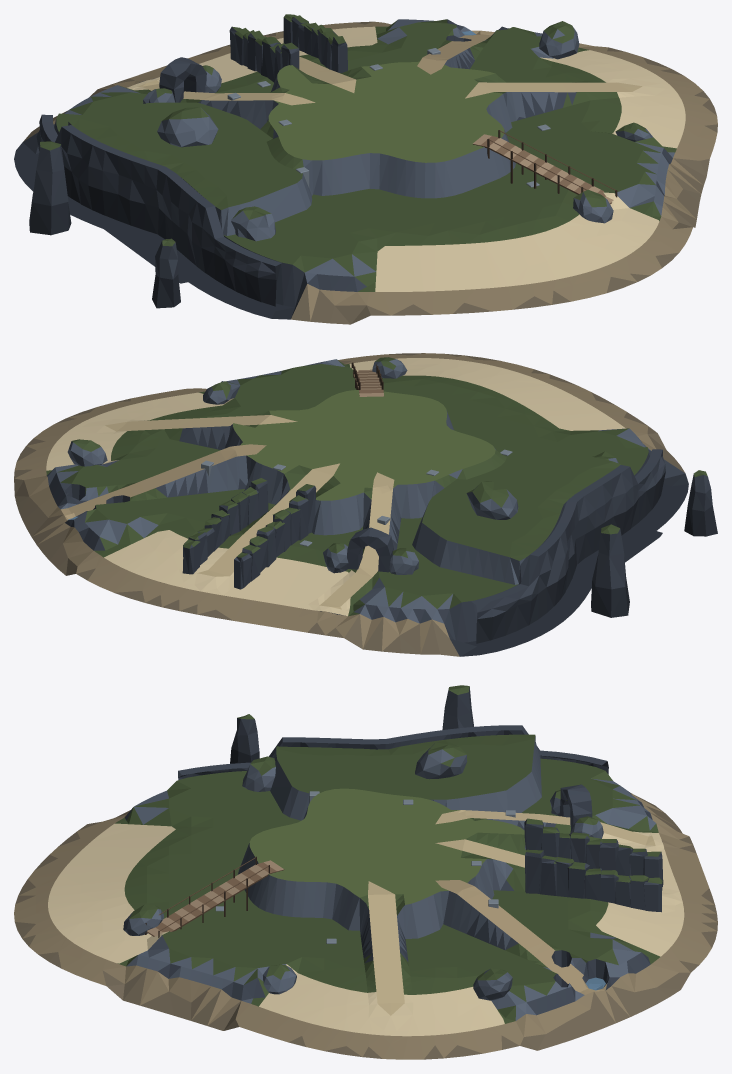
Rendered from island.glb.
The picture shows the model from 3 angles, top to bottom: view 1: azimuth 30°, elevation 25°; view 2: azimuth 150°, elevation 25°; view 3: azimuth 270°, elevation 25°; orthographic projection. The views are drawn at different scales.
Parts seen in each view (by area): view 1: ground, cliffs, gully_walls, boardwalk, arch; view 2: ground, cliffs, gully_walls, arch, boardwalk; view 3: ground, cliffs, gully_walls, boardwalk, arch.
Part boxes in pixels (x1=…): ground: x1=14, y1=19, x2=717, y2=324; cliffs: x1=29, y1=21, x2=652, y2=308; gully_walls: x1=229, y1=14, x2=347, y2=82; boardwalk: x1=473, y1=130, x2=617, y2=204; arch: x1=143, y1=57, x2=221, y2=103; ground: x1=14, y1=353, x2=688, y2=656; cliffs: x1=67, y1=357, x2=717, y2=643; gully_walls: x1=182, y1=478, x2=316, y2=589; arch: x1=323, y1=527, x2=418, y2=574; boardwalk: x1=351, y1=362, x2=384, y2=396; ground: x1=14, y1=734, x2=717, y2=1059; cliffs: x1=123, y1=685, x2=608, y2=1000; gully_walls: x1=524, y1=818, x2=663, y2=912; boardwalk: x1=145, y1=856, x2=284, y2=937; arch: x1=550, y1=784, x2=603, y2=838.
Size of what is drawn, in the model's own units: 86.52 by 12.06 by 82.55.
Materials: 1 (1 with a texture image).
